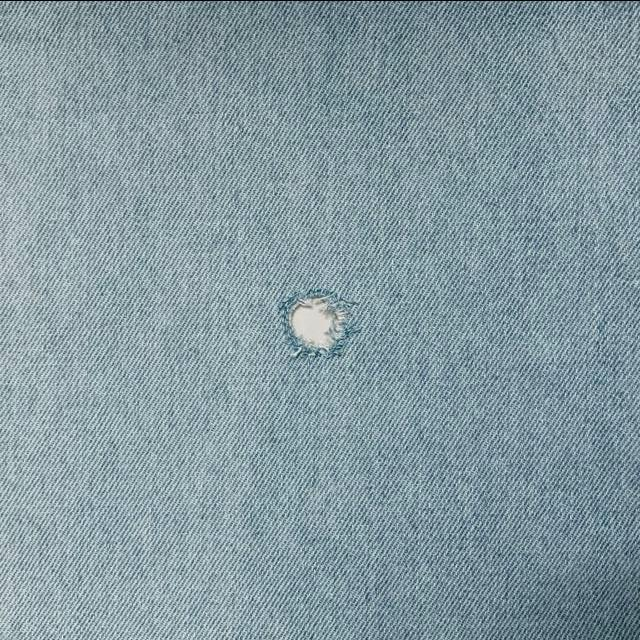Hole: (279, 288, 360, 357)
